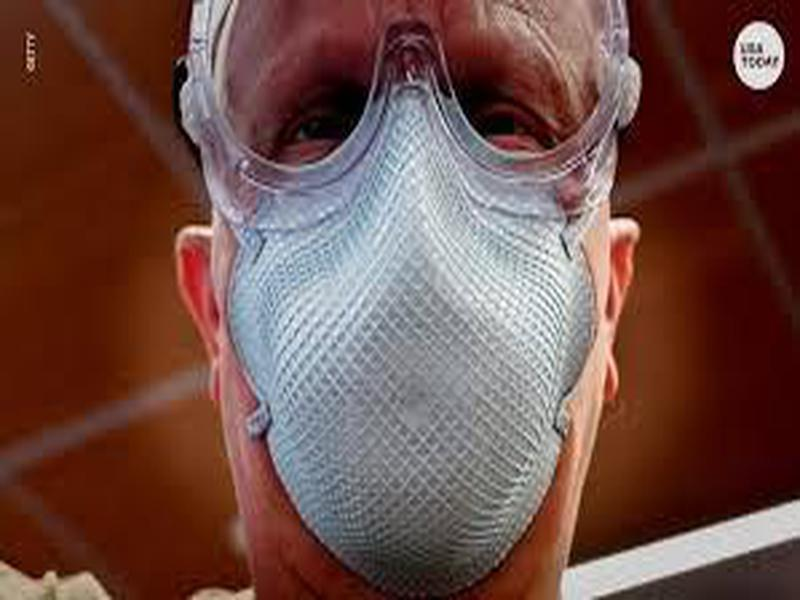with_mask: (177, 1, 622, 600)
